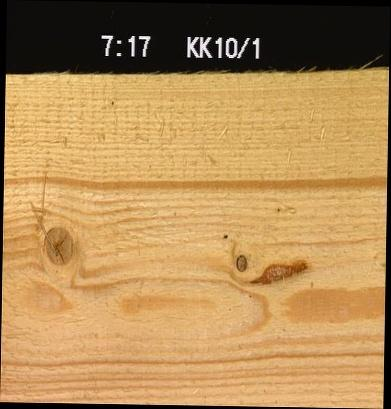dry_knot: (234, 252, 248, 272)
sound_knot: (41, 222, 74, 266)
